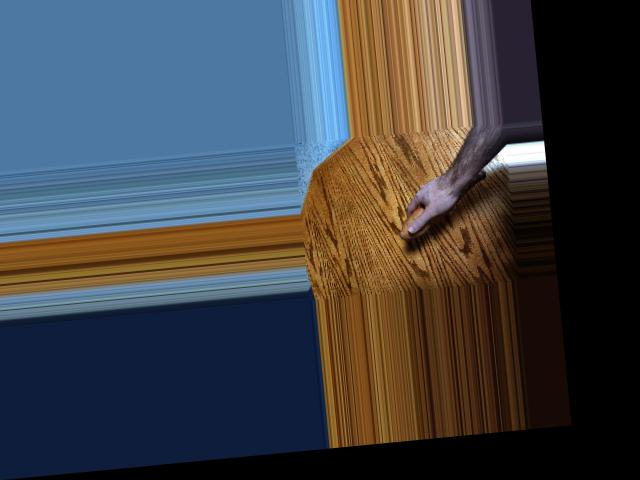sweet_potato: (392, 170, 493, 243)
